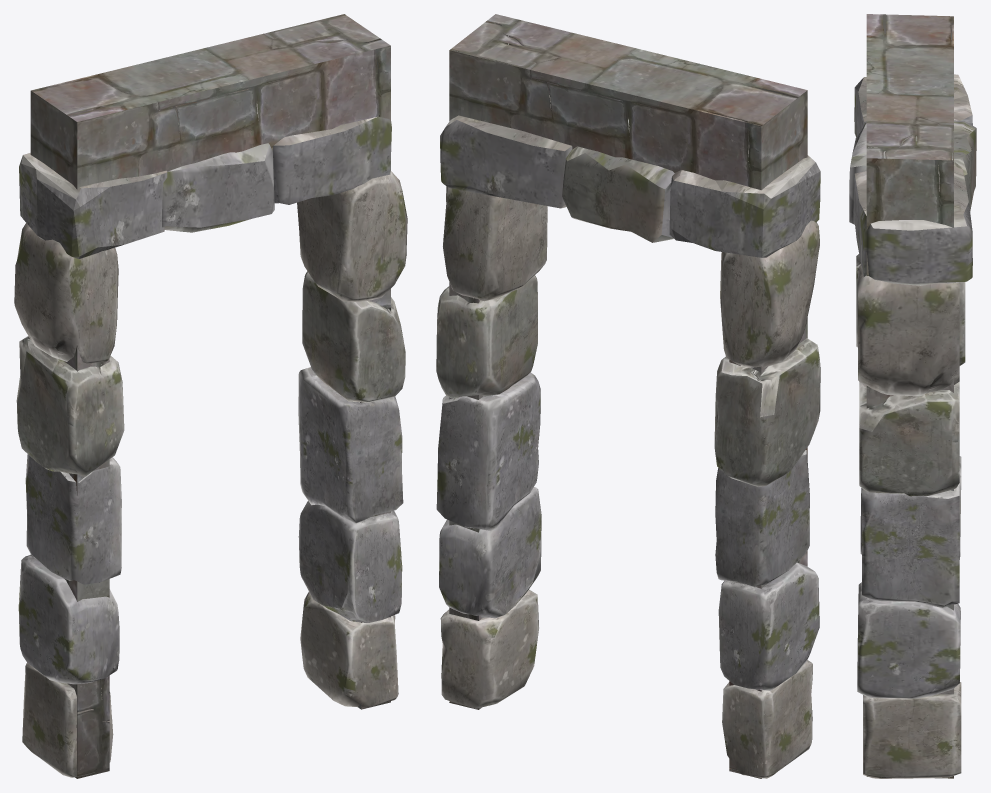
The picture shows the model from 3 angles, left to right: view 1: azimuth 30°, elevation 25°; view 2: azimuth 150°, elevation 25°; view 3: azimuth 270°, elevation 25°; orthographic projection. The views are drawn at different scales.
Visible parts, largest first — view 1: SM_BB_T3_Wall_Doorframe_Narrow_LOD0; view 2: SM_BB_T3_Wall_Doorframe_Narrow_LOD0; view 3: SM_BB_T3_Wall_Doorframe_Narrow_LOD0.
Part boxes in pixels (bbox=[...]): SM_BB_T3_Wall_Doorframe_Narrow_LOD0: bbox=[14, 14, 407, 778]; SM_BB_T3_Wall_Doorframe_Narrow_LOD0: bbox=[436, 14, 820, 778]; SM_BB_T3_Wall_Doorframe_Narrow_LOD0: bbox=[849, 14, 976, 778].
Size of the model in its own units: 1.66 by 3.01 by 0.5607.
2 materials, 2 textured.
